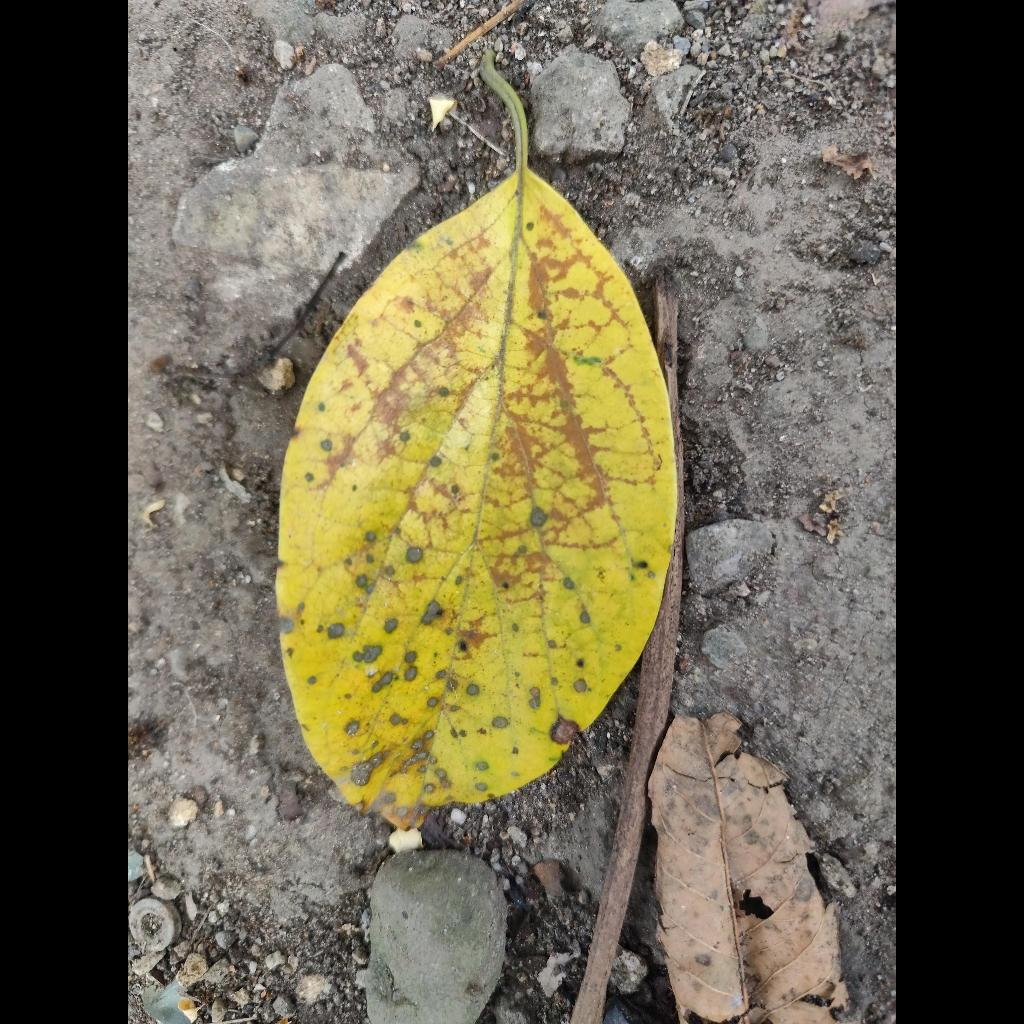deficiencia_nutricional: (277, 72, 677, 828)
